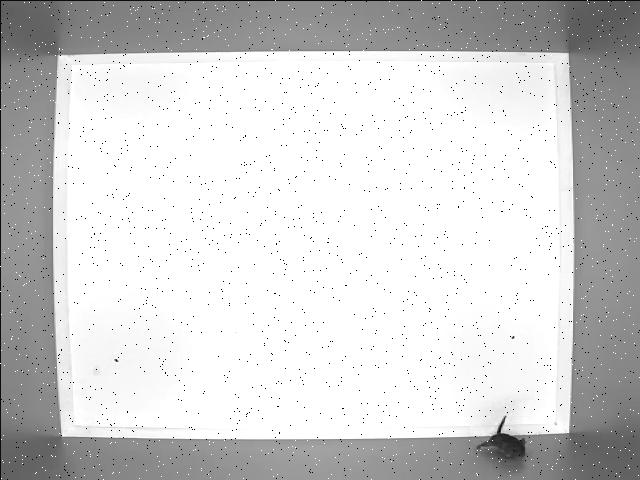Tikus: (474, 411, 536, 465)
